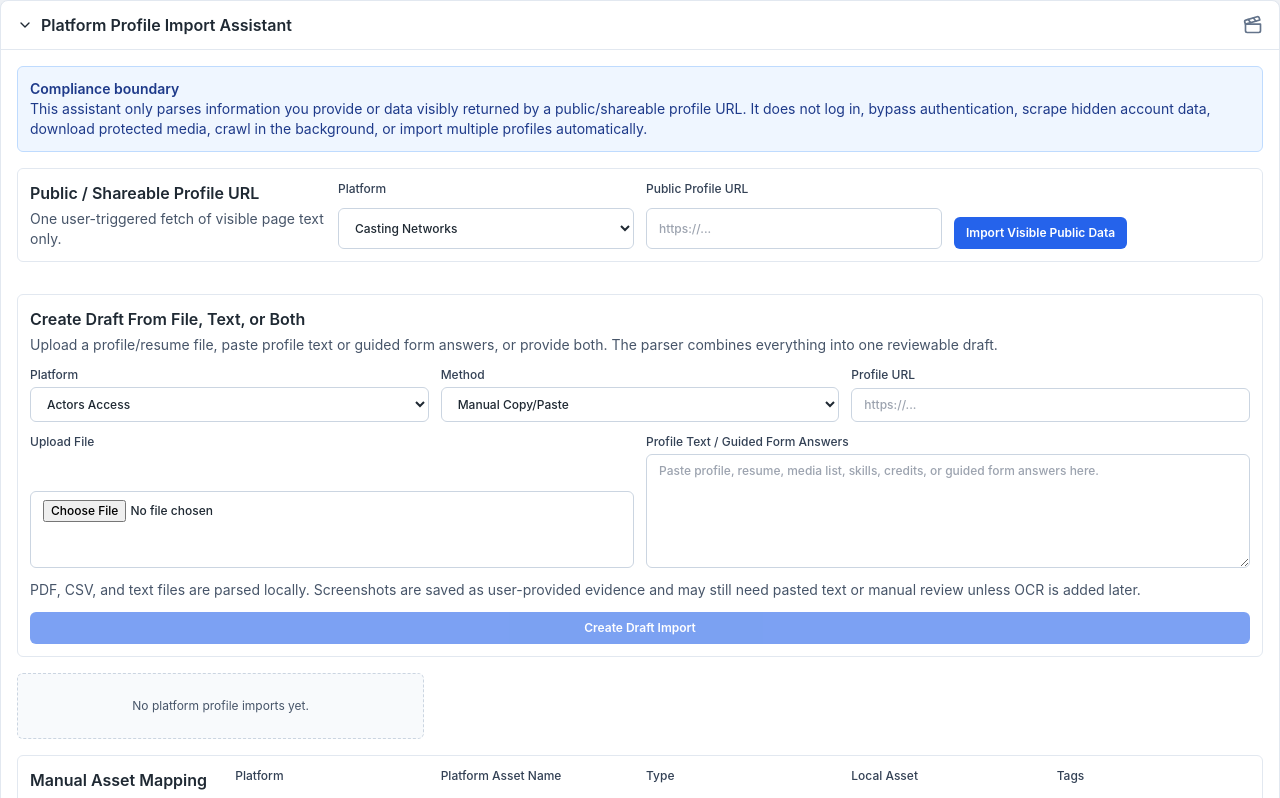
Test: Profile feature › keeps profile import draft submission disabled until file or text is provided
Check: the button "Create Draft Import" is disabled, box [30, 612, 1250, 644]
In the text box labelled "Profile Text / Guided Form Answers": (948, 511) [646, 454, 1250, 568], type "Television credit, comedy skills"
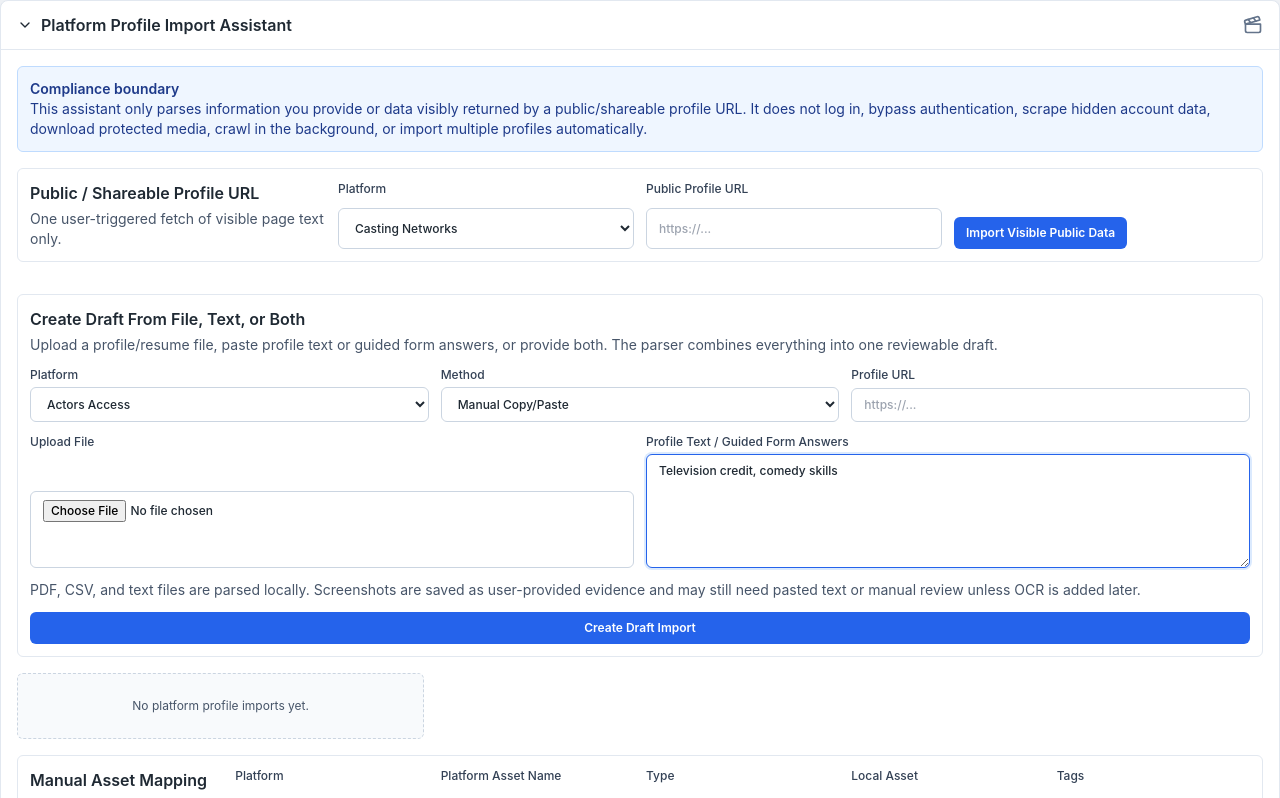
Check: the button "Create Draft Import" is enabled, box [30, 612, 1250, 644]
